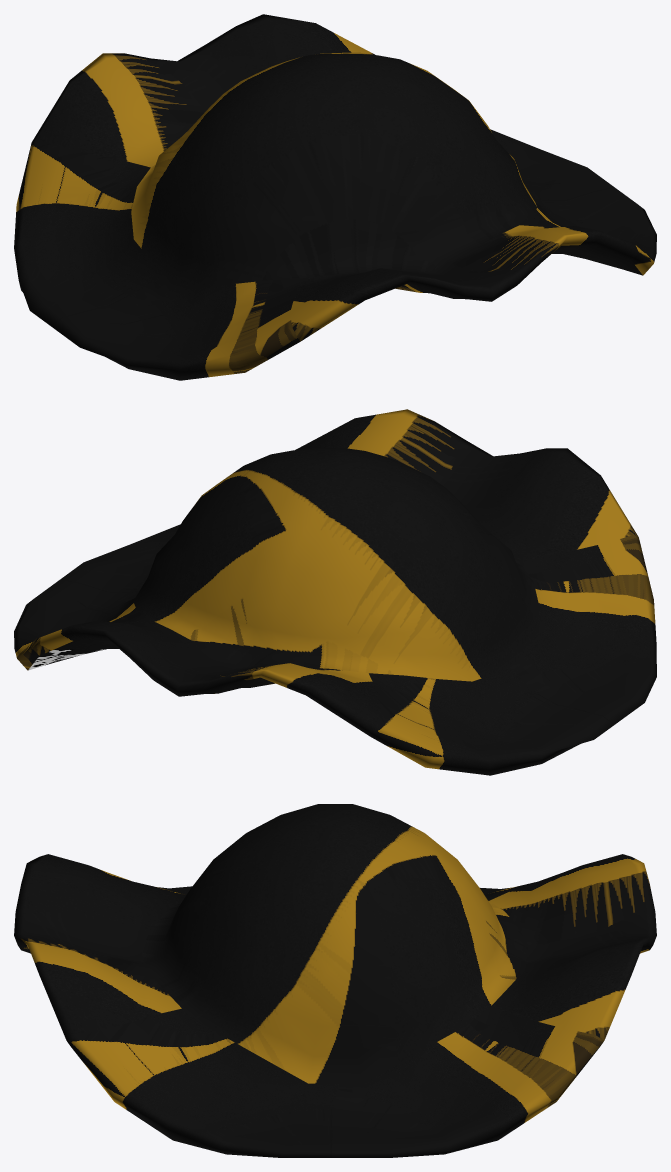
Rendered from Hat2.fbx.
The picture shows the model from 3 angles, top to bottom: view 1: azimuth 30°, elevation 25°; view 2: azimuth 150°, elevation 25°; view 3: azimuth 270°, elevation 25°; orthographic projection.
Visible parts, largest first — view 1: PirateHat2; view 2: PirateHat2; view 3: PirateHat2.
Part boxes in pixels (bbox=[...]): PirateHat2: bbox=[14, 14, 656, 380]; PirateHat2: bbox=[14, 409, 656, 775]; PirateHat2: bbox=[14, 804, 656, 1157].
Bounding box in the file's own units: 11.49 × 4 × 11.17.
